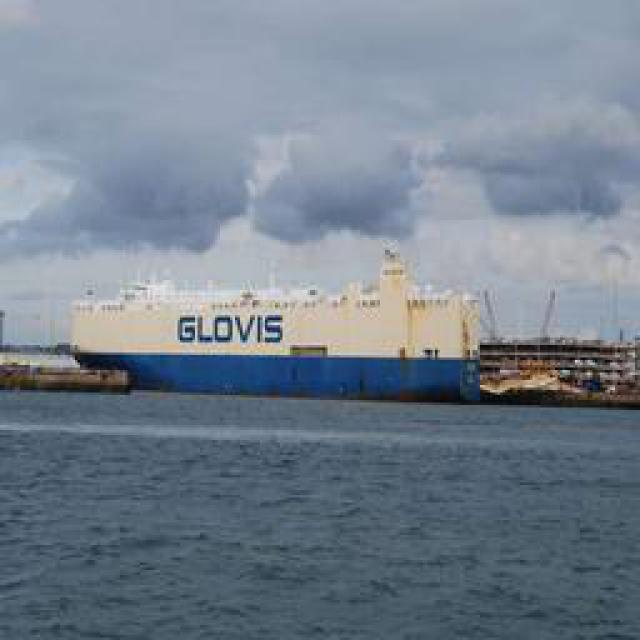Ship: (73, 267, 478, 405)
